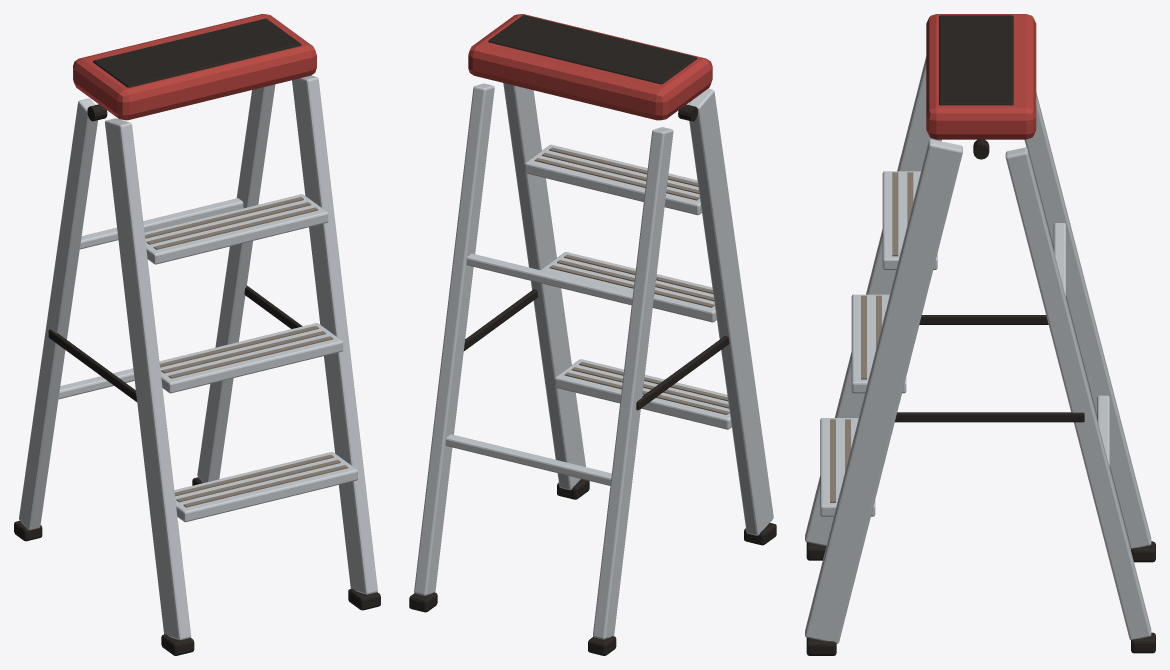
File: hh_cat_step_ladder.glb
3 renders of one model, left to right at view 1: azimuth 30°, elevation 25°; view 2: azimuth 150°, elevation 25°; view 3: azimuth 270°, elevation 25°, orthographic. The views are drawn at different scales.
Visible parts, largest first — view 1: stile, stile.001, rear_leg, tool_shelf, rear_leg.001, shelf_well, tread.002, tread.001, tread, rear_rung.001, spreader, rear_rung (+10 smaller); view 2: stile, rear_leg, rear_leg.001, stile.001, tool_shelf, shelf_well, tread.002, tread, tread.001, rear_rung.001, rear_rung, spreader (+10 smaller); view 3: stile.001, rear_leg.001, rear_leg, tool_shelf, shelf_well, stile, tread.002, spreader.001, tread.001, tread, spreader, rear_rung.001 (+3 smaller).
Part boxes in pixels (box(x1,y1,x2,y2)): stile: box(105, 118, 191, 640); stile.001: box(292, 75, 377, 594); rear_leg: box(19, 98, 97, 530); tool_shelf: box(73, 14, 316, 120); rear_leg.001: box(197, 84, 275, 482); shelf_well: box(93, 18, 301, 87); tread.002: box(144, 194, 328, 264); tread.001: box(159, 323, 343, 393); tread: box(174, 452, 357, 522); rear_rung.001: box(79, 198, 243, 249); spreader: box(48, 329, 137, 402); rear_rung: box(58, 368, 134, 399); stile: box(688, 88, 773, 535); rear_leg: box(593, 127, 673, 639); rear_leg.001: box(414, 83, 494, 595); stile.001: box(503, 83, 585, 490); tool_shelf: box(468, 14, 712, 120); shelf_well: box(488, 15, 697, 84); tread.002: box(524, 144, 701, 215); tread: box(554, 359, 731, 429); tread.001: box(540, 252, 716, 322); rear_rung.001: box(466, 253, 632, 305); rear_rung: box(445, 434, 611, 485); spreader: box(636, 336, 729, 410); stile.001: box(805, 139, 962, 643); rear_leg.001: box(1005, 147, 1151, 640); rear_leg: box(1024, 92, 1151, 549); tool_shelf: box(926, 14, 1036, 139); shelf_well: box(939, 15, 1013, 105); stile: box(805, 56, 941, 545); tread.002: box(882, 171, 937, 269); spreader.001: box(895, 412, 1084, 422); tread.001: box(851, 294, 906, 393); tread: box(820, 418, 875, 516); spreader: box(919, 315, 1048, 324); rear_rung.001: box(1053, 223, 1065, 296).
Size of the model in its own units: 0.5 by 1.2 by 0.7.
